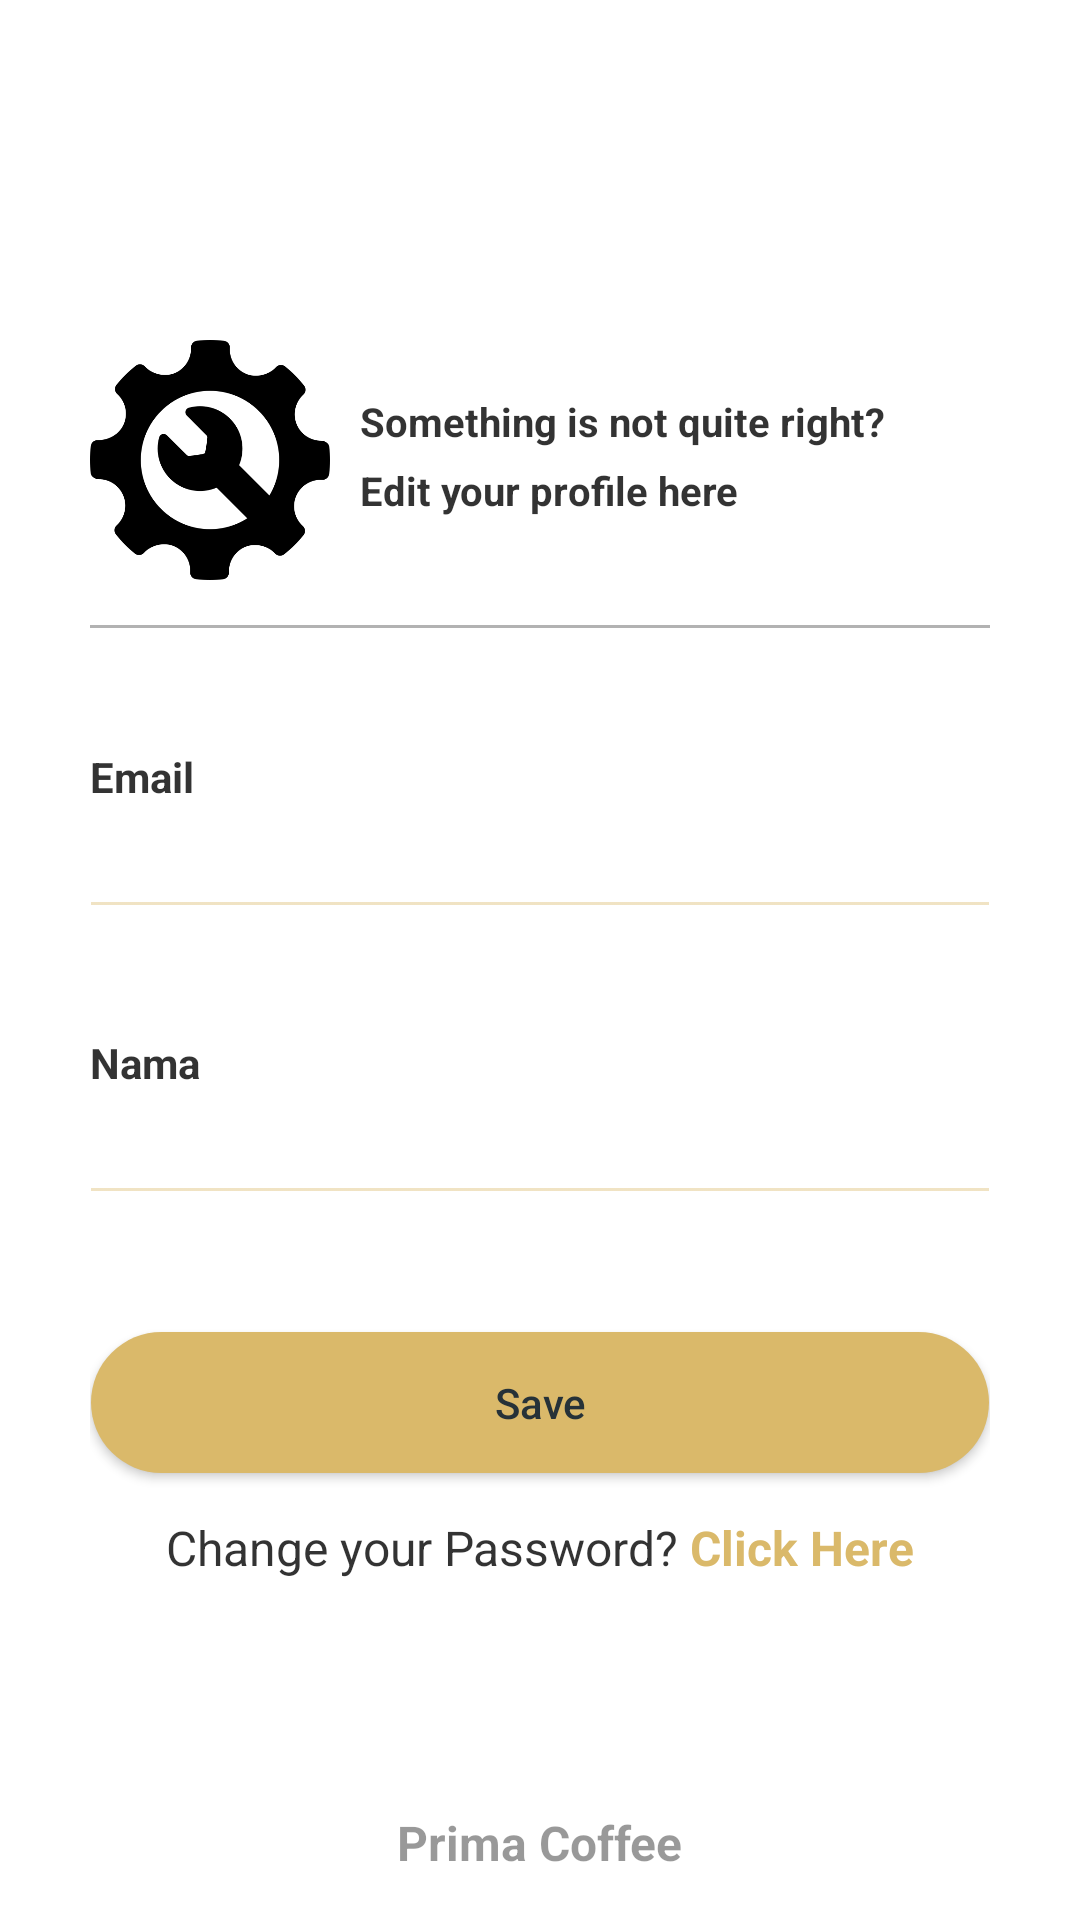

Named icons in this screenshot (1080 × 1920) and their bounding boxes, (x1, y1, x2, y2):
editcog: (90, 340, 330, 580)
